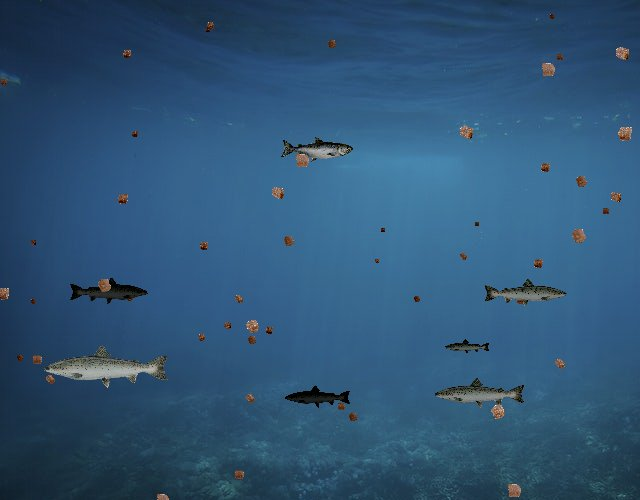Fish: (42, 343, 171, 389), (433, 377, 527, 410), (482, 277, 568, 308), (68, 277, 149, 306), (280, 137, 353, 163), (285, 384, 353, 409), (444, 338, 491, 355)
Pellet: (610, 119, 640, 149), (238, 312, 266, 340), (264, 180, 291, 207), (546, 10, 559, 23), (27, 237, 39, 249)
